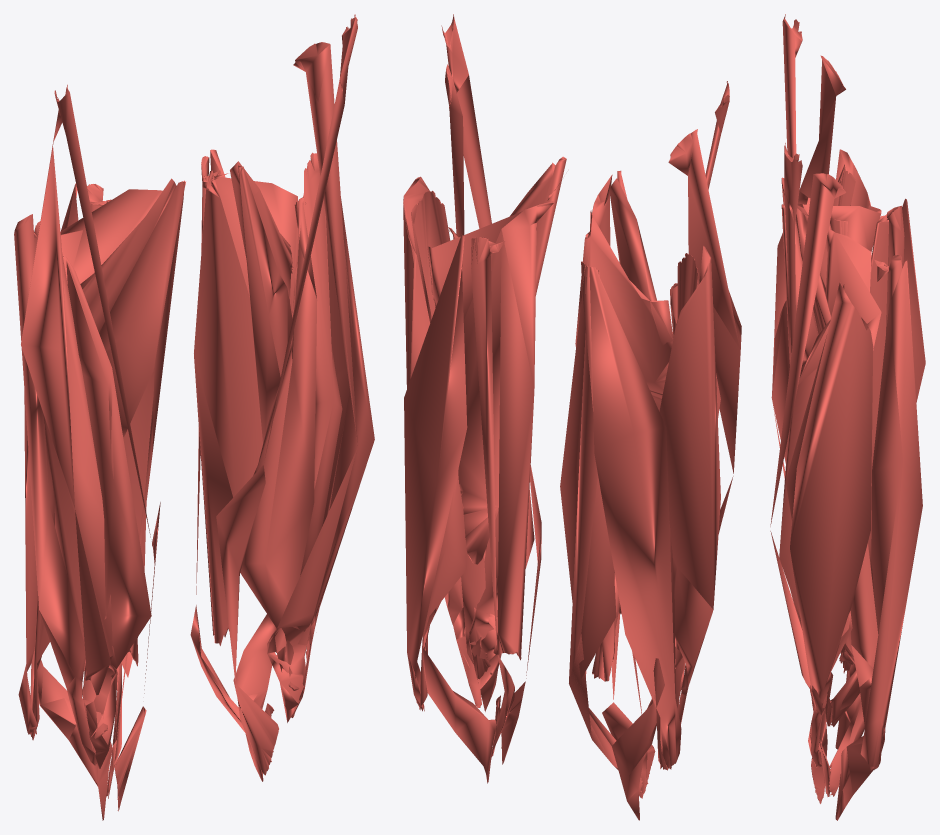
Rendered from supplement-knee-muscle.glb.
The picture shows the model from 3 angles, left to right: view 1: azimuth 30°, elevation 25°; view 2: azimuth 150°, elevation 25°; view 3: azimuth 270°, elevation 25°; orthographic projection. The views are drawn at different scales.
Visible parts, largest first — view 1: knee:adductor-magnus:isa:FJ1403M, knee:quadriceps:isa:FJ1443M, knee:quadriceps:isa:FJ1433, knee:quadriceps:isa:FJ1443, knee:quadriceps:isa:FJ1433M, knee:quadriceps:isa:FJ1442, knee:quadriceps:isa:FJ1441, knee:sartorius:isa:FJ1434M, knee:adductor-longus:isa:FJ1402, knee:quadriceps:isa:FJ1442M, knee:quadriceps:isa:FJ1441M, knee:adductor-magnus:isa:FJ1403 (+11 smaller); view 2: knee:adductor-magnus:isa:FJ1403M, knee:biceps-femoris:isa:FJ1395, knee:quadriceps:isa:FJ1442, knee:biceps-femoris:isa:FJ1395M, knee:quadriceps:isa:FJ1433, knee:semimembranosus:isa:FJ1435, knee:adductor-magnus:isa:FJ1403, knee:semitendinosus:isa:FJ1436, knee:semitendinosus:isa:FJ1436M, knee:sartorius:isa:FJ1434M, knee:quadriceps:isa:FJ1442M, knee:quadriceps:isa:FJ1441M (+12 smaller); view 3: knee:quadriceps:isa:FJ1442M, knee:biceps-femoris:isa:FJ1395M, knee:quadriceps:isa:FJ1433M, knee:adductor-magnus:isa:FJ1403M, knee:quadriceps:isa:FJ1433, knee:biceps-femoris:isa:FJ1444M, knee:quadriceps:isa:FJ1443M, knee:sartorius:isa:FJ1434M, knee:semimembranosus:isa:FJ1435, knee:sartorius:isa:FJ1434, knee:biceps-femoris:isa:FJ1395, knee:semitendinosus:isa:FJ1436 (+12 smaller).
Boxes of the visible parts, box(x1,y1,x2,y2) form: knee:adductor-magnus:isa:FJ1403M: box(194, 170, 298, 645); knee:quadriceps:isa:FJ1443M: box(240, 196, 317, 672); knee:quadriceps:isa:FJ1433: box(21, 110, 117, 768); knee:quadriceps:isa:FJ1443: box(63, 255, 151, 714); knee:quadriceps:isa:FJ1433M: box(267, 42, 357, 722); knee:quadriceps:isa:FJ1442: box(14, 214, 96, 765); knee:quadriceps:isa:FJ1441: box(34, 221, 112, 738); knee:sartorius:isa:FJ1434M: box(216, 14, 357, 775); knee:adductor-longus:isa:FJ1402: box(99, 181, 185, 438); knee:quadriceps:isa:FJ1442M: box(291, 195, 374, 717); knee:quadriceps:isa:FJ1441M: box(285, 152, 342, 690); knee:adductor-magnus:isa:FJ1403: box(60, 189, 162, 666); knee:adductor-magnus:isa:FJ1403M: box(427, 201, 553, 660); knee:biceps-femoris:isa:FJ1395: box(589, 267, 681, 770); knee:quadriceps:isa:FJ1442: box(659, 246, 720, 725); knee:biceps-femoris:isa:FJ1395M: box(404, 234, 467, 711); knee:quadriceps:isa:FJ1433: box(651, 129, 741, 710); knee:semimembranosus:isa:FJ1435: box(560, 266, 616, 686); knee:adductor-magnus:isa:FJ1403: box(575, 210, 673, 681); knee:semitendinosus:isa:FJ1436: box(569, 261, 642, 794); knee:semitendinosus:isa:FJ1436M: box(471, 237, 514, 757); knee:sartorius:isa:FJ1434M: box(441, 14, 541, 764); knee:quadriceps:isa:FJ1442M: box(403, 176, 481, 707); knee:quadriceps:isa:FJ1441M: box(411, 190, 492, 674); knee:quadriceps:isa:FJ1442M: box(790, 282, 873, 767); knee:biceps-femoris:isa:FJ1395M: box(860, 259, 922, 769); knee:quadriceps:isa:FJ1433M: box(770, 173, 845, 767); knee:adductor-magnus:isa:FJ1403M: box(825, 229, 881, 673); knee:quadriceps:isa:FJ1433: box(772, 55, 845, 479); knee:biceps-femoris:isa:FJ1444M: box(850, 543, 881, 770); knee:quadriceps:isa:FJ1443M: box(779, 320, 830, 714); knee:sartorius:isa:FJ1434M: box(784, 143, 827, 803); knee:semimembranosus:isa:FJ1435: box(868, 214, 888, 606); knee:sartorius:isa:FJ1434: box(782, 14, 833, 718); knee:biceps-femoris:isa:FJ1395: box(886, 198, 925, 402); knee:semitendinosus:isa:FJ1436: box(829, 205, 904, 726).
Bounding box in the file's own units: 0.2948 × 0.6397 × 0.1276.
